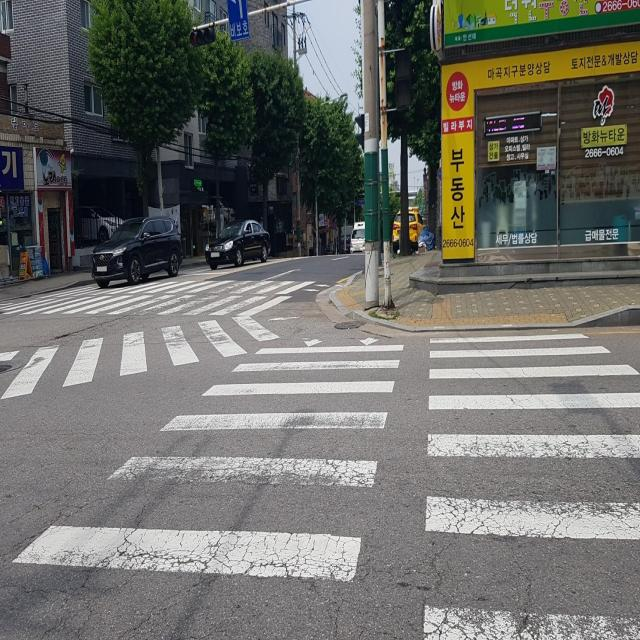횡단보도: (11, 330, 640, 639), (6, 277, 327, 326)
